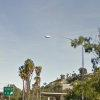Tree: (69, 32, 100, 91)
